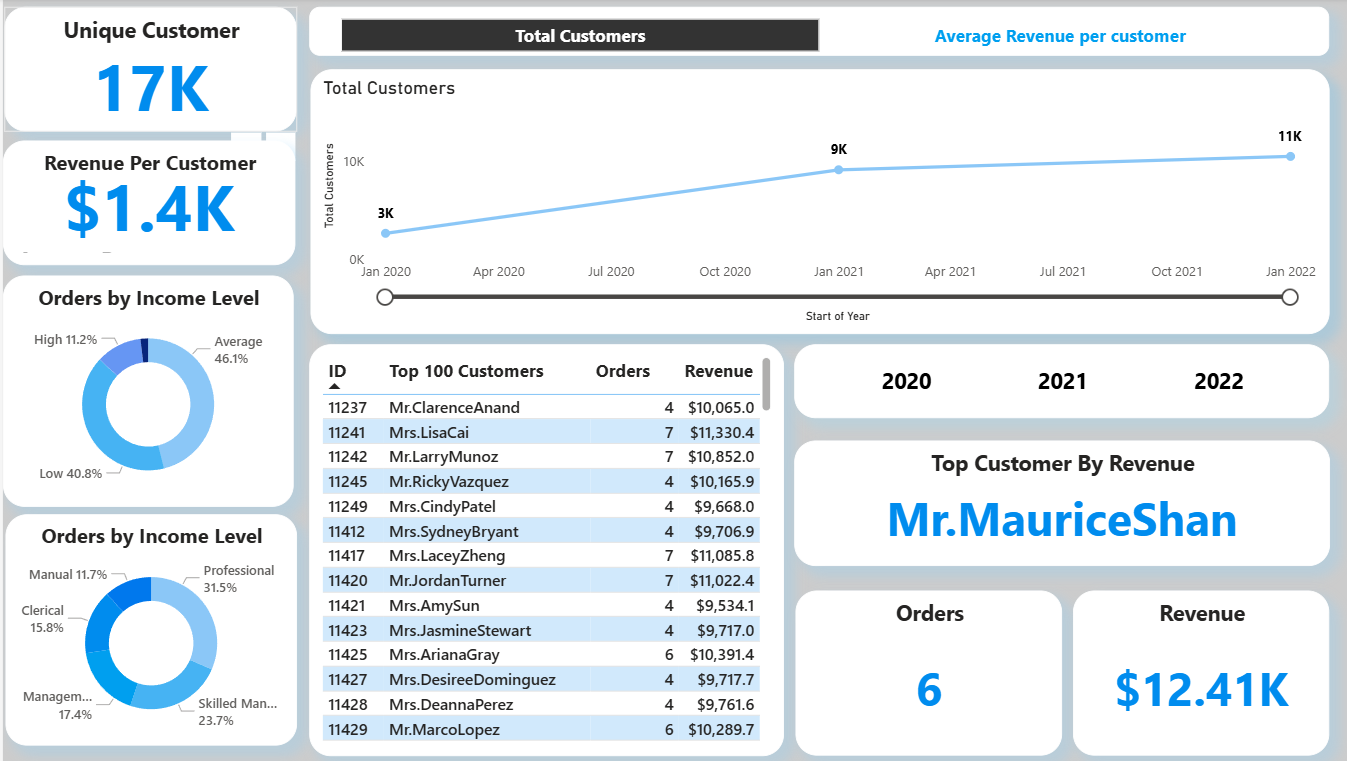

The dashboard page shown, as its layout file describes it:
{"tool":"powerbi","page":{"name":"Customer View","canvas":[1280,720],"ordinal":3},"visuals":[{"type":"card","title":"Unique Customer ","fields":{"Values":["measures (2).Total Customers"]},"box":[1.2,8.1,272.1,116.3],"z":0},{"type":"card","title":"Revenue Per Customer","fields":{"Values":["measures (2).Average Revenue per customer"]},"box":[0,132.6,272.1,116.3],"z":1000},{"type":"donutChart","title":"Orders by Income Level","fields":{"Y":["measures (2).Total_Order"],"Category":["Customer_Lookup.Income Level"]},"box":[0,258.1,270,215],"z":2000},{"type":"donutChart","title":"Orders by Income Level","fields":{"Y":["measures (2).Total_Order"],"Category":["Customer_Lookup.Occupation"]},"box":[2.3,480,270.9,215],"z":3000},{"type":"slicer","fields":{"Values":["Parameter.Parameter"]},"box":[284.9,8.1,948.8,45.3],"z":4000},{"type":"lineChart","fields":{"Y":["measures (2).Total Customers"],"Category":["Calendar_Lookup.Start of Year Hierarchy.Start of Year","Calendar_Lookup.Start of Year Hierarchy.Start of Quarter","Calendar_Lookup.Start of Year Hierarchy.Start of Month","Calendar_Lookup.Start of Year Hierarchy.Start of Week"]},"box":[286,66.3,947.7,246.5],"z":5000},{"type":"tableEx","fields":{"Values":["Customer_Lookup.CustomerKey","Customer_Lookup.Customer Name","measures (2).Total_Order","measures (2).Total Revenue"]},"box":[285.4,322.5,441.9,382.8],"z":6000},{"type":"slicer","fields":{"Values":["Calendar_Lookup.Year"]},"box":[736,322.1,497.7,68.6],"z":7000},{"type":"card","title":"Top Customer By Revenue","fields":{"Values":["measures (2).Customer Name"]},"box":[735.5,411.7,498.1,116.6],"z":8000},{"type":"card","title":"Orders","fields":{"Values":["measures (2).Total Orders(Customer View )"]},"box":[736.9,551.6,248.4,153.7],"z":9000},{"type":"card","title":"Revenue","fields":{"Values":["measures (2).Total Revenue(Customer View)"]},"box":[994.9,551.6,238.8,153.7],"z":10000}]}

Visuals, with their boxes in screenshot pixels (x1, y1, x2, y2), scaled from the page's 1280x720 canvas onto the 1347x761 screenshot:
"Unique Customer " card: BBox(1, 9, 288, 131)
"Revenue Per Customer" card: BBox(0, 140, 286, 263)
"Orders by Income Level" donutChart: BBox(0, 273, 284, 500)
"Orders by Income Level" donutChart: BBox(2, 507, 288, 735)
slicer - Parameter.Parameter: BBox(300, 9, 1298, 56)
lineChart - measures (2).Total Customers x Calendar_Lookup.Start of Year Hierarchy.Start of Year: BBox(301, 70, 1298, 331)
tableEx - Customer_Lookup.CustomerKey x Customer_Lookup.Customer Name: BBox(300, 341, 765, 745)
slicer - Calendar_Lookup.Year: BBox(775, 340, 1298, 413)
"Top Customer By Revenue" card: BBox(774, 435, 1298, 558)
"Orders" card: BBox(775, 583, 1037, 745)
"Revenue" card: BBox(1047, 583, 1298, 745)
